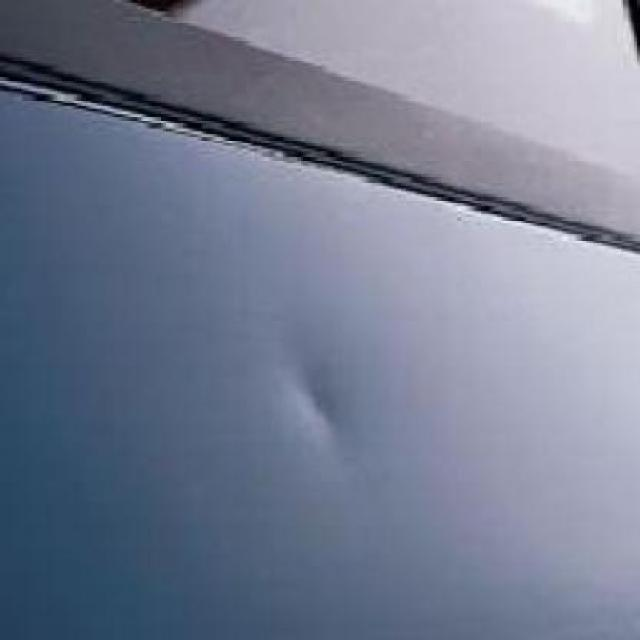dent-or-scratch: (246, 310, 380, 456)
